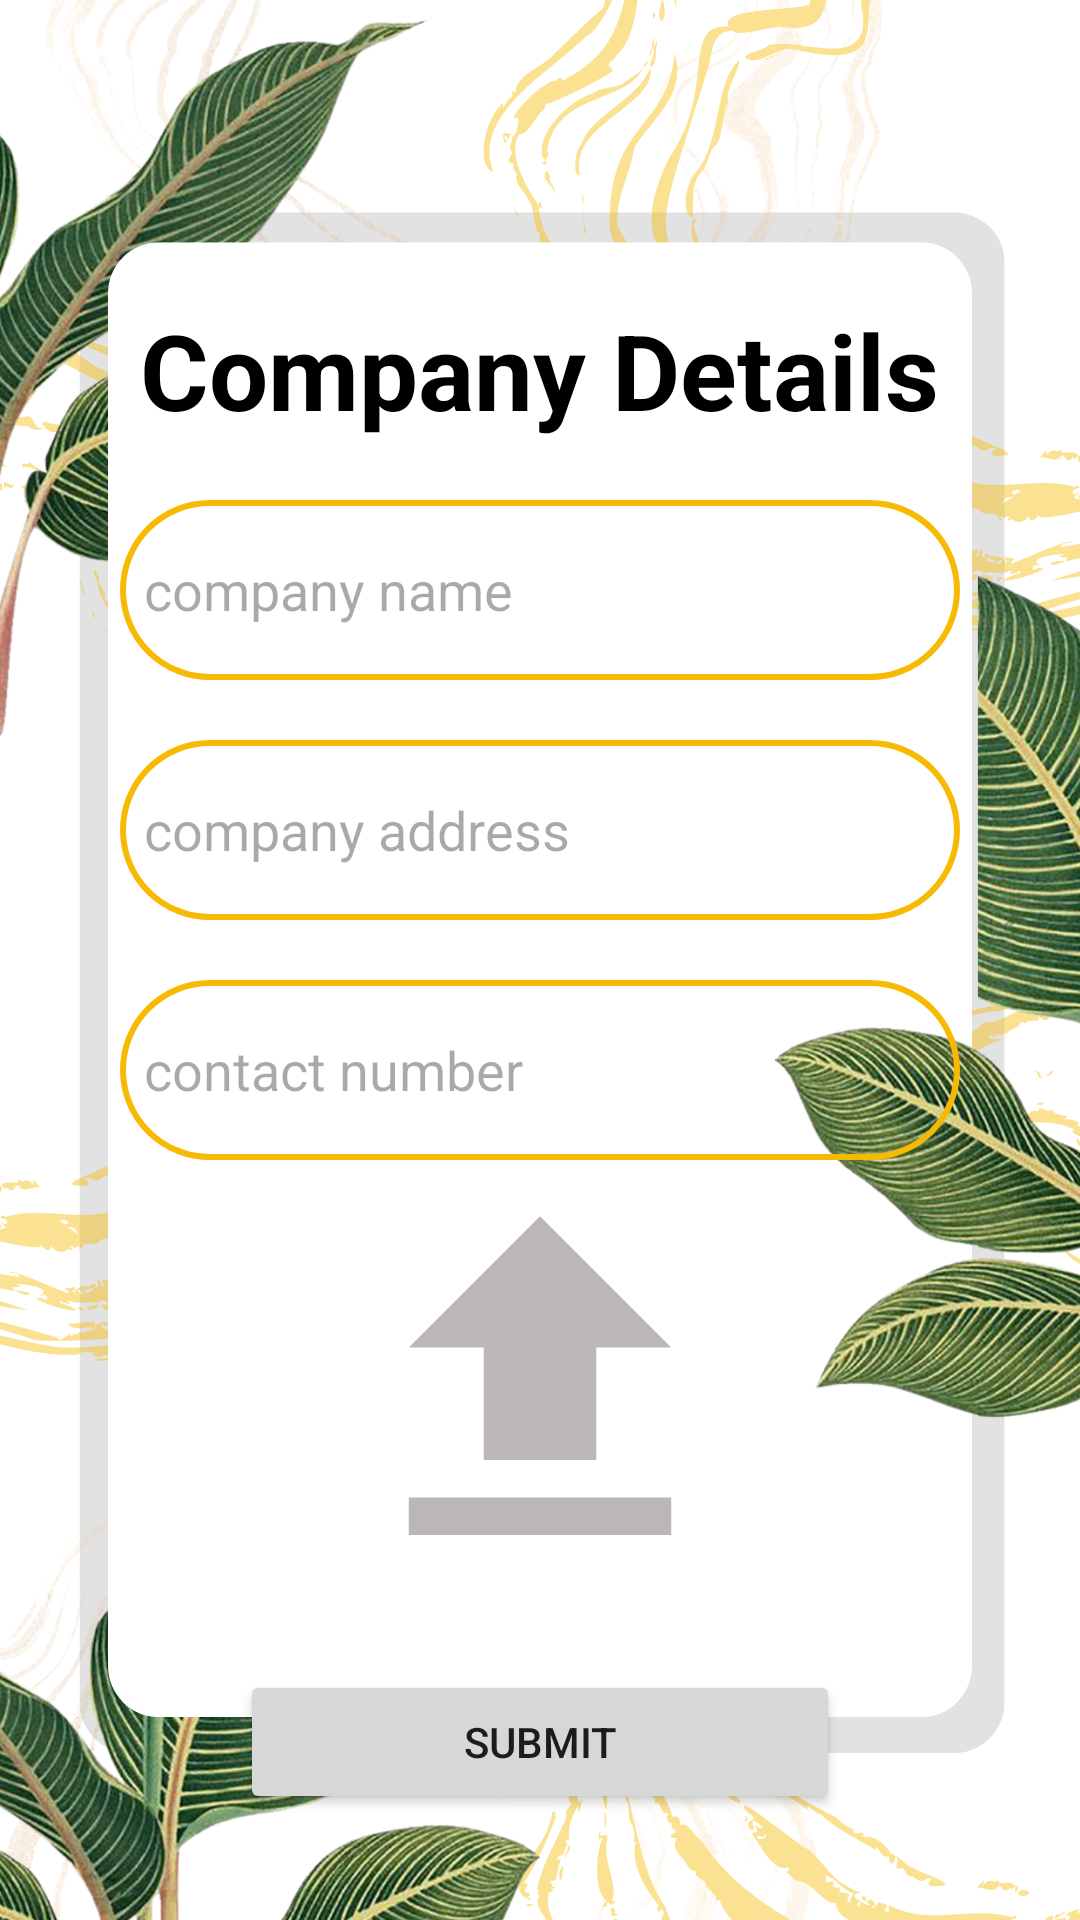

Named icons in this screenshot (1080px x 1920px) and their bounding boxes, (x1, y1, x2, y2):
upload: (409, 1217, 671, 1535)
